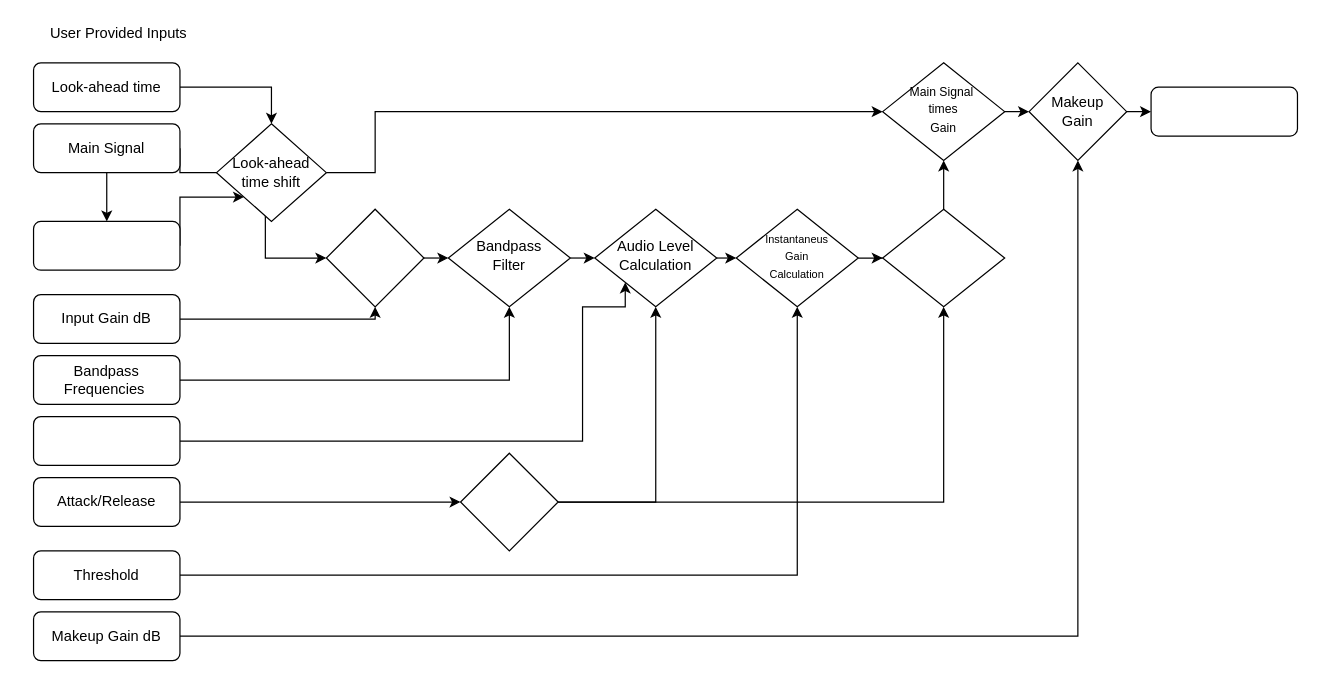
Image size: 1319x682. Some labels were removed from this diagram. Here are the shapes that lost their labels. From the top down, the centre of each, then its label:
At pixel 1223 111: "Output Signal".
At pixel 106 245: "Sidechain Signal Copy of main if not provided".
At pixel 374 257: "Input Gain".
At pixel 943 257: "Smoothed Gain Calulation".
At pixel 106 440: "Ratio".
At pixel 508 501: "Time Constant Calc.".
